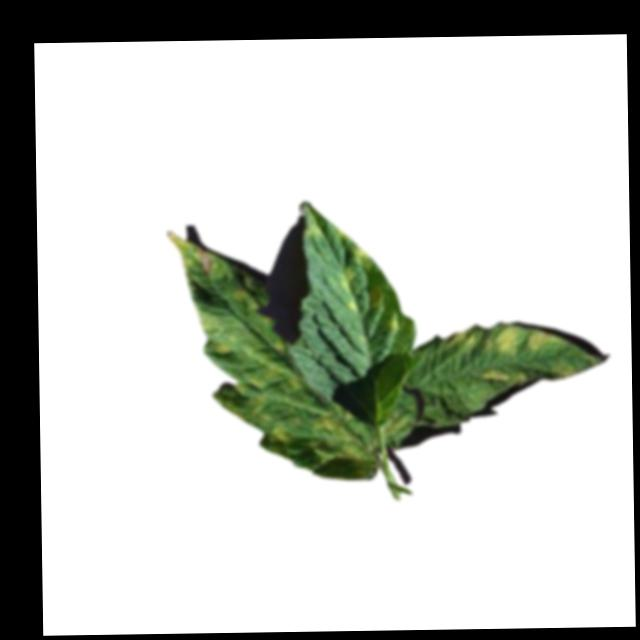Leaf_Mold: (159, 230, 364, 465), (447, 321, 558, 357), (341, 244, 388, 314), (481, 360, 577, 387)
